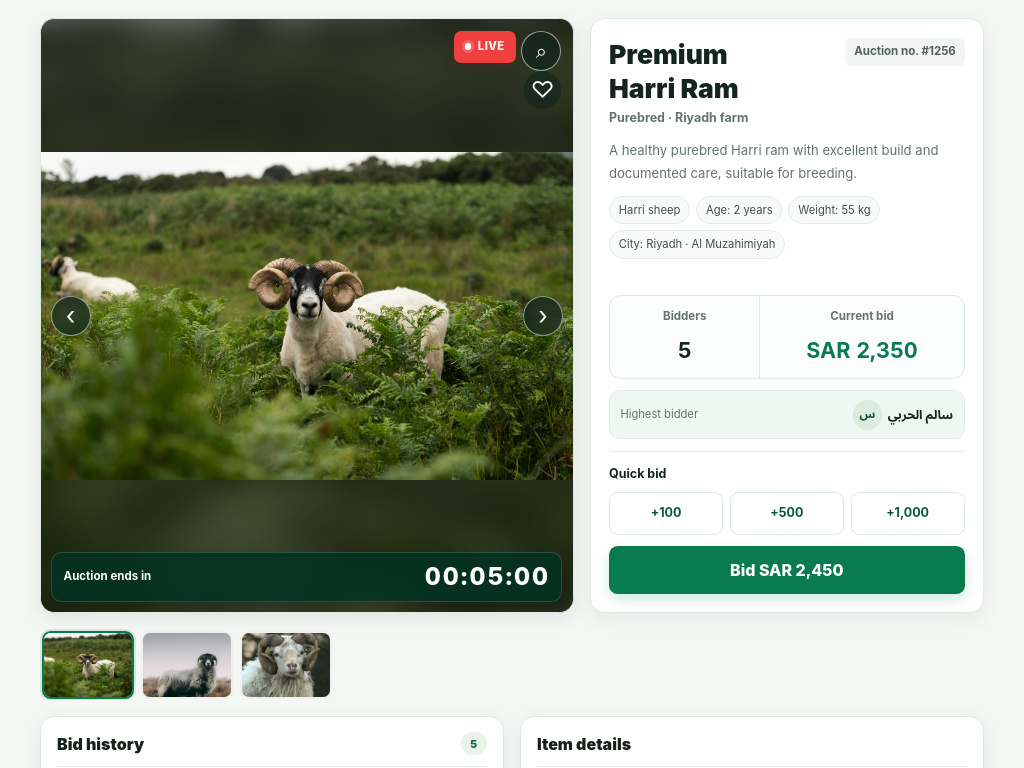
Scenario: live auction room › submits exact quick bids through Phase 2 logic and reports accepted and duplicate bids
Step 1. Click the button "+100" → (666, 513), box x1=609 y1=492 x2=723 y2=535
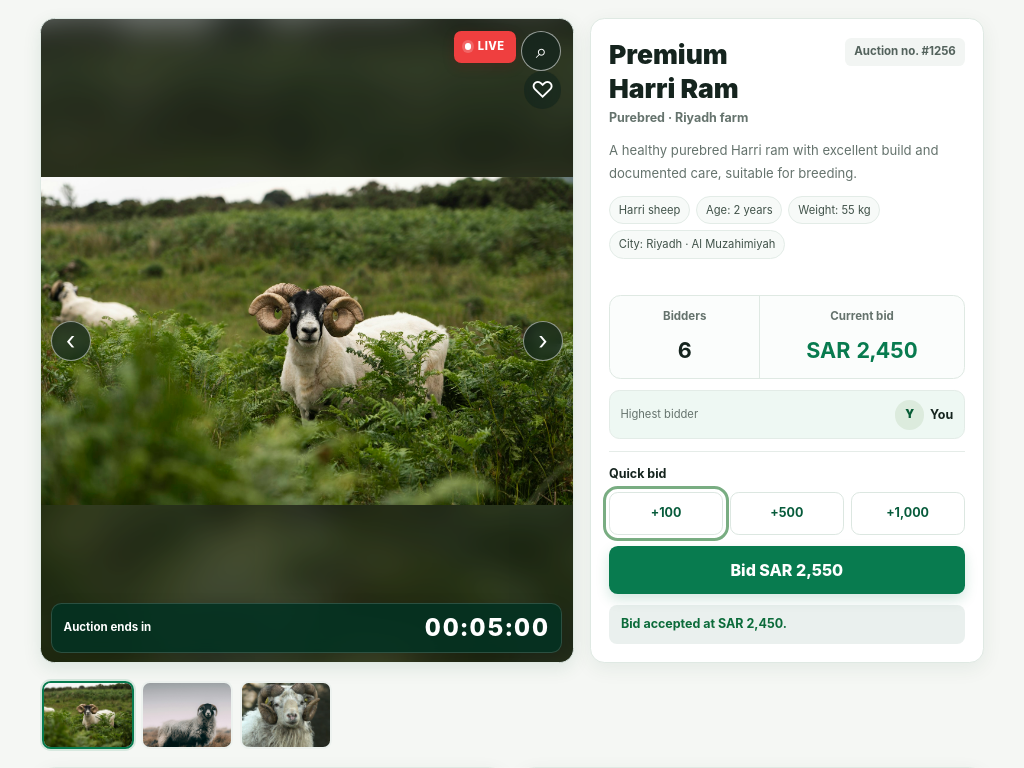
Expected: the element with test id "current-price" reads "SAR 2,450", x1=806 y1=338 x2=918 y2=364
Step 2. Click the button "+500" → (787, 513), box x1=730 y1=492 x2=844 y2=535
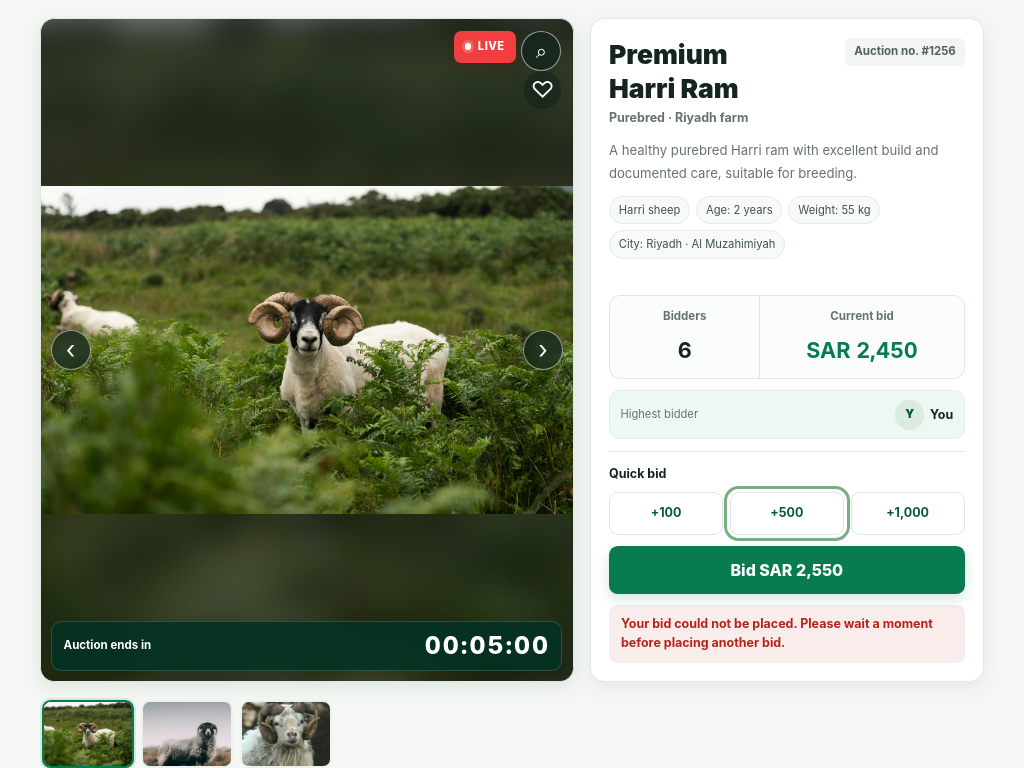
Expected: the element with test id "current-price" reads "SAR 2,450", x1=806 y1=338 x2=918 y2=364
Expected: the message shows "Please wait a moment before placing another bid.", x1=621 y1=616 x2=933 y2=650
